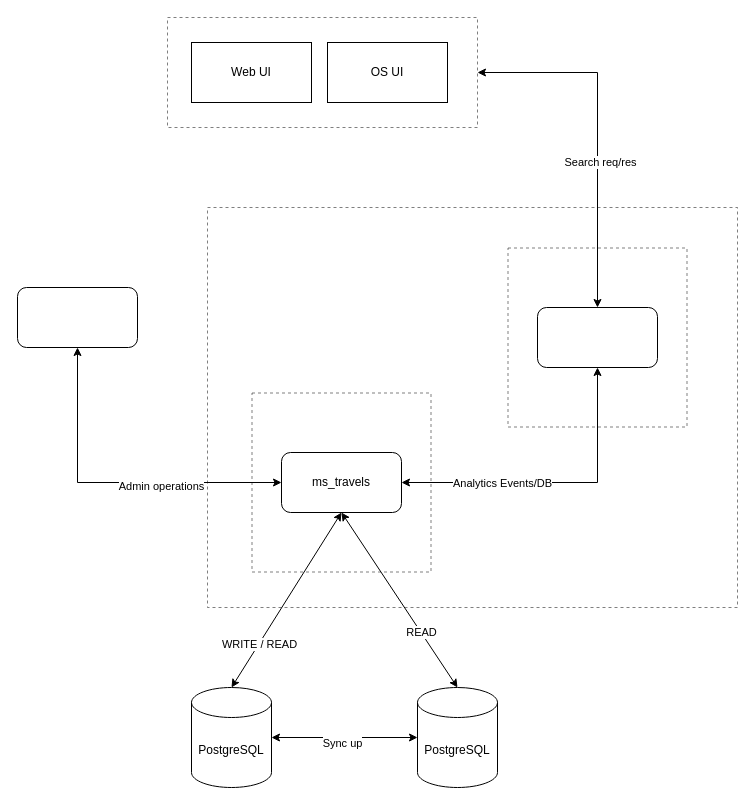
This 755x805 diagram has some shape labels left out. The shapes that lost their labels are listed below. From the top down, each one's box as (x1, y1, x2, y2) in pixels, then its label:
(16, 286, 138, 348): Admin UI (private subnet)
(536, 306, 658, 368): ms_searchers
